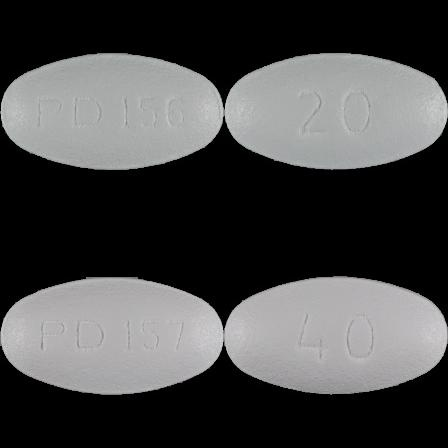49299-1091: (0, 0, 224, 224)
